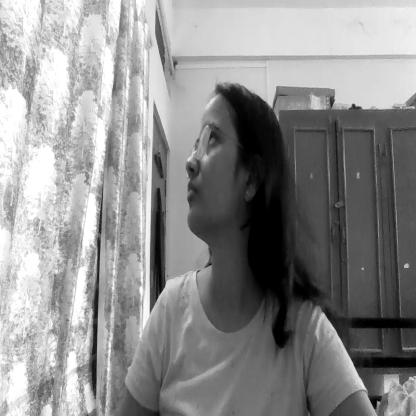Distracted: (176, 74, 285, 240)
